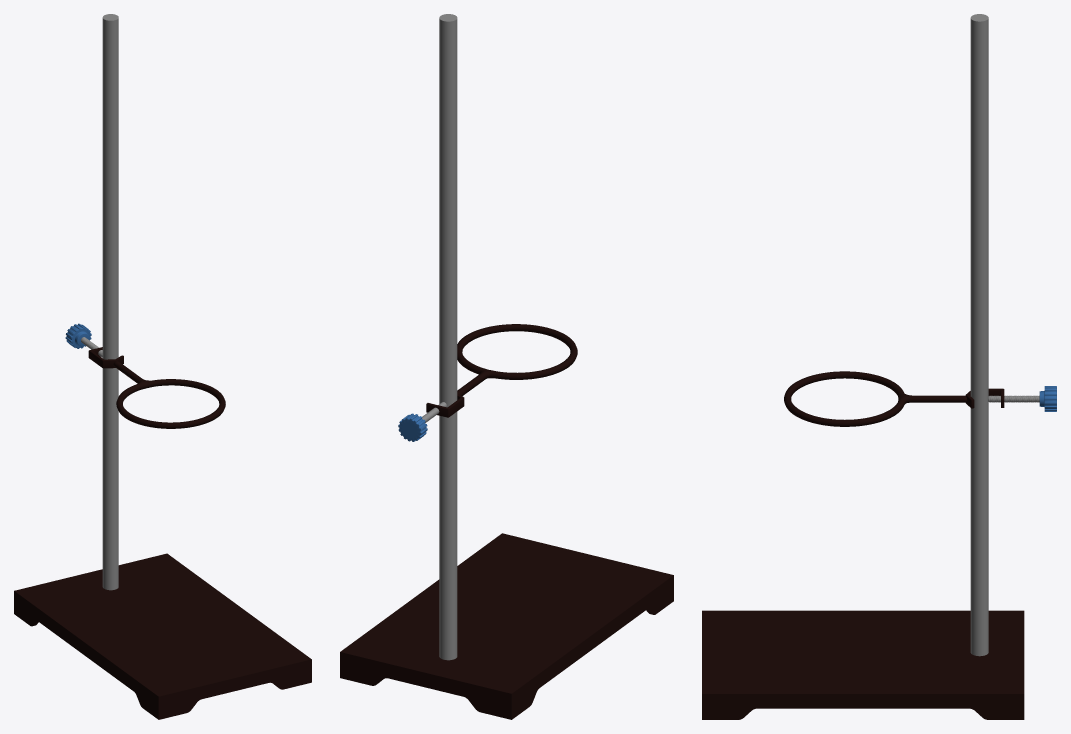
The model's file is separating funnel holder.gltf.
3 renders of one model, left to right at view 1: azimuth 30°, elevation 25°; view 2: azimuth 150°, elevation 25°; view 3: azimuth 270°, elevation 25°, orthographic. The views are drawn at different scales.
Parts seen in each view (by area): view 1: lab_clamp_assy_asm, lab_clamp_assy_asm.003, sf holder; view 2: lab_clamp_assy_asm, lab_clamp_assy_asm.003, sf holder, knob; view 3: lab_clamp_assy_asm, lab_clamp_assy_asm.003, sf holder.
Boxes of the visible parts, x1,y1,x2,y2 form: lab_clamp_assy_asm: [14, 553, 311, 719]; lab_clamp_assy_asm.003: [102, 14, 118, 590]; sf holder: [113, 361, 225, 428]; lab_clamp_assy_asm: [340, 533, 673, 719]; lab_clamp_assy_asm.003: [439, 14, 457, 660]; sf holder: [457, 324, 577, 396]; knob: [398, 413, 427, 441]; lab_clamp_assy_asm: [702, 610, 1024, 719]; lab_clamp_assy_asm.003: [970, 14, 988, 656]; sf holder: [784, 371, 967, 426].
Size of the model in its own units: 1.57 by 5.83 by 2.84.
